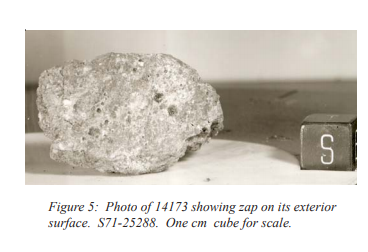Breccia: (29, 54, 243, 179), (63, 78, 197, 176), (104, 55, 180, 142)
